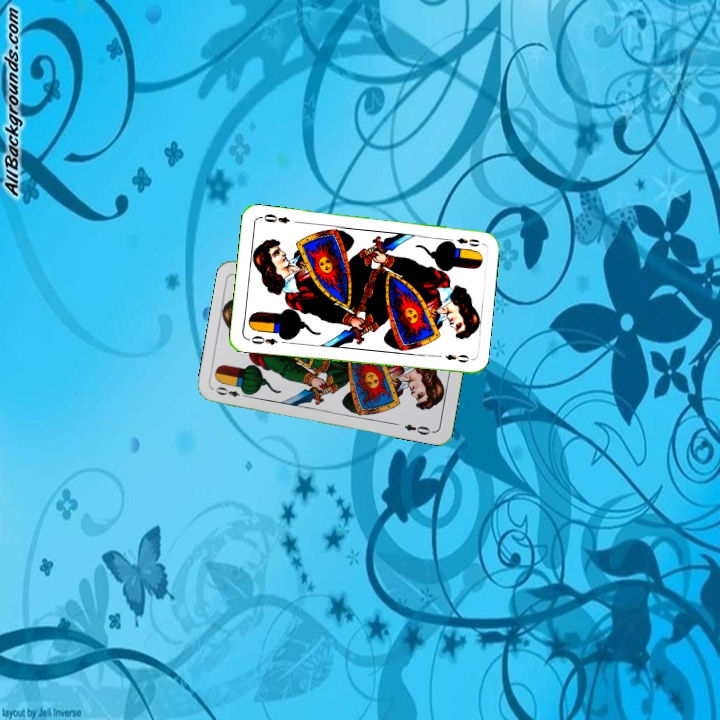EO: (212, 383, 251, 400), (443, 234, 483, 249), (244, 332, 280, 347)
